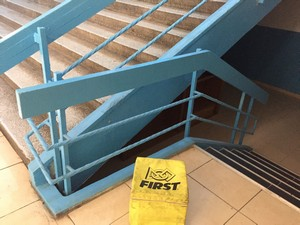cube: (129, 154, 188, 225)
